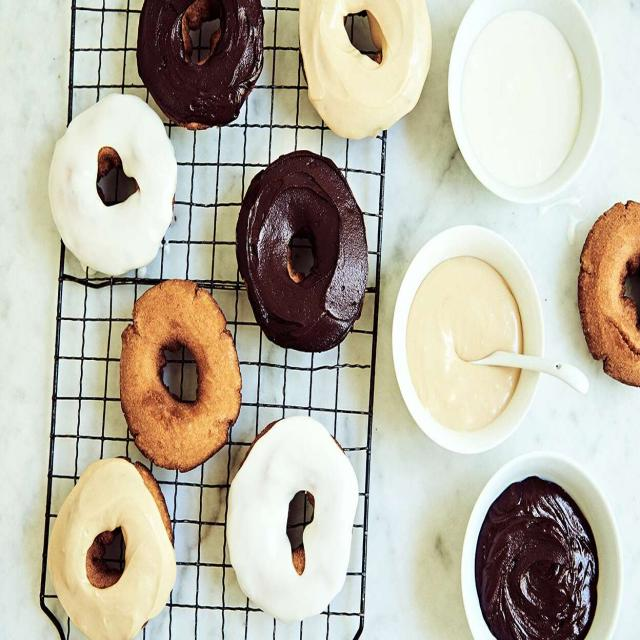donut: (223, 413, 360, 619), (234, 148, 370, 351), (45, 90, 179, 277), (47, 456, 181, 640), (118, 277, 242, 471), (294, 0, 434, 143), (136, 0, 266, 132), (573, 193, 640, 393)
